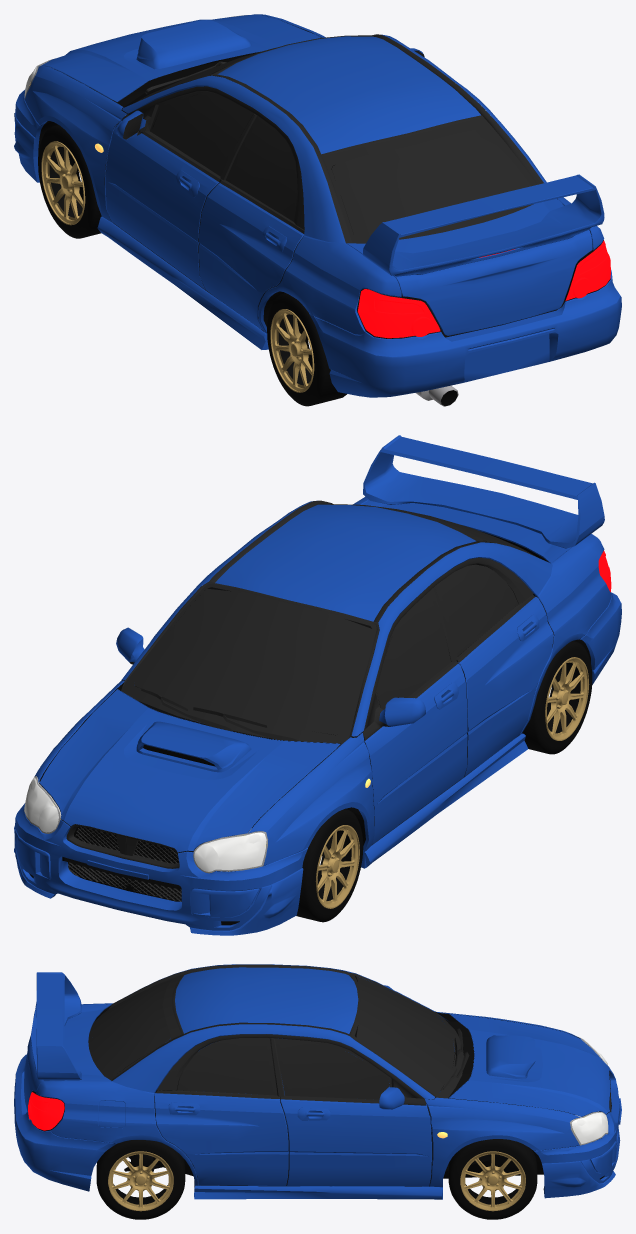
The model's file is WRX STI.fbx.
3 views of the same model, one above another, from view 1: azimuth 30°, elevation 25°; view 2: azimuth 150°, elevation 25°; view 3: azimuth 270°, elevation 25° (orthographic). The views are drawn at different scales.
Visible parts, largest first — view 1: Subaru WRX STI, Rear Wheels, Rear Wheels.001; view 2: Subaru WRX STI, Rear Wheels.001, Rear Wheels; view 3: Subaru WRX STI, Rear Wheels.001, Rear Wheels.
Part boxes in pixels (bbox=[...]): Subaru WRX STI: bbox=[14, 14, 621, 406]; Rear Wheels: bbox=[267, 293, 346, 406]; Rear Wheels.001: bbox=[38, 125, 101, 238]; Subaru WRX STI: bbox=[14, 435, 621, 935]; Rear Wheels.001: bbox=[296, 809, 363, 922]; Rear Wheels: bbox=[522, 641, 592, 754]; Subaru WRX STI: bbox=[14, 964, 621, 1199]; Rear Wheels.001: bbox=[448, 1139, 537, 1219]; Rear Wheels: bbox=[96, 1140, 185, 1219].
Bounding box in the file's own units: 753 × 552 × 1693.
Materials: 15 (1 with a texture image).
